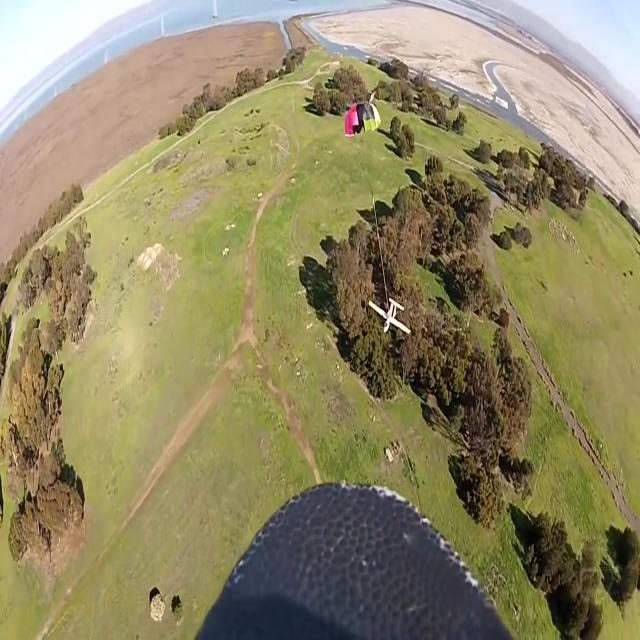iha: (368, 295, 411, 336)
